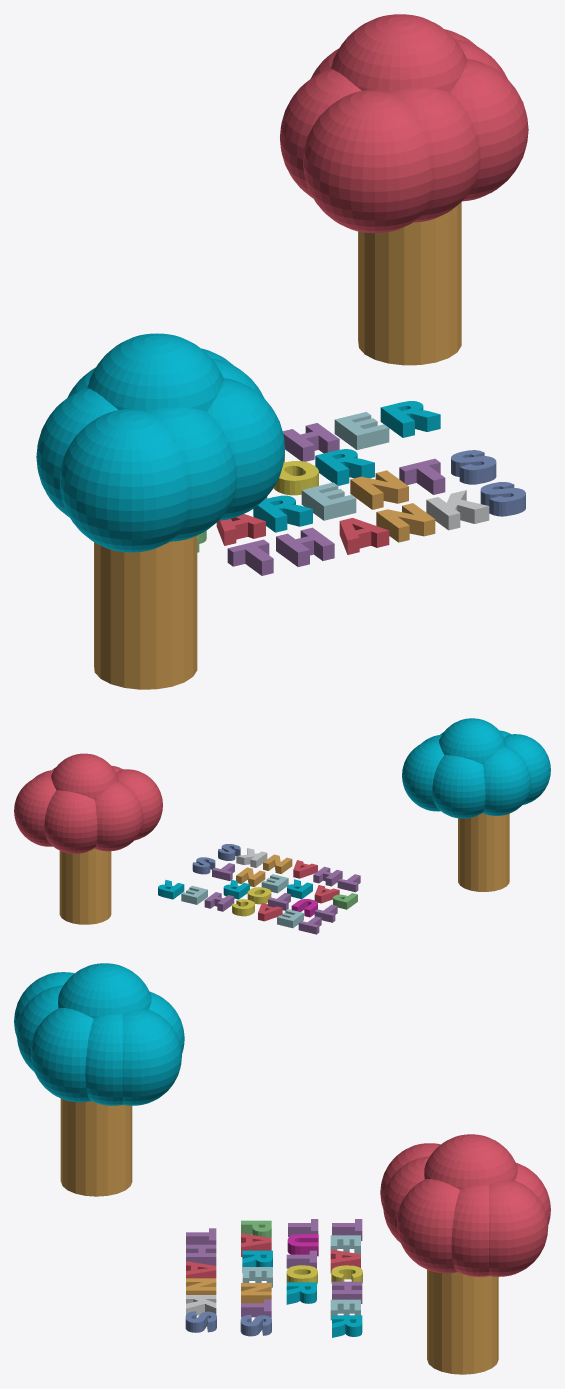
The model's file is arnoldtree.glb.
3 renders of one model, top to bottom at view 1: azimuth 30°, elevation 25°; view 2: azimuth 150°, elevation 25°; view 3: azimuth 270°, elevation 25°, orthographic. The views are drawn at different scales.
Visible parts, largest first — view 1: Mesh_Mesh_head_geo.001_lambert2SG.001; view 2: Mesh_Mesh_head_geo.001_lambert2SG.001; view 3: Mesh_Mesh_head_geo.001_lambert2SG.001.
Part boxes in pixels (<box>): Mesh_Mesh_head_geo.001_lambert2SG.001: <box>36,14,528,689</box>; Mesh_Mesh_head_geo.001_lambert2SG.001: <box>14,718,550,934</box>; Mesh_Mesh_head_geo.001_lambert2SG.001: <box>14,963,550,1374</box>.
Size of the model in its own units: 213 by 88 by 195.
